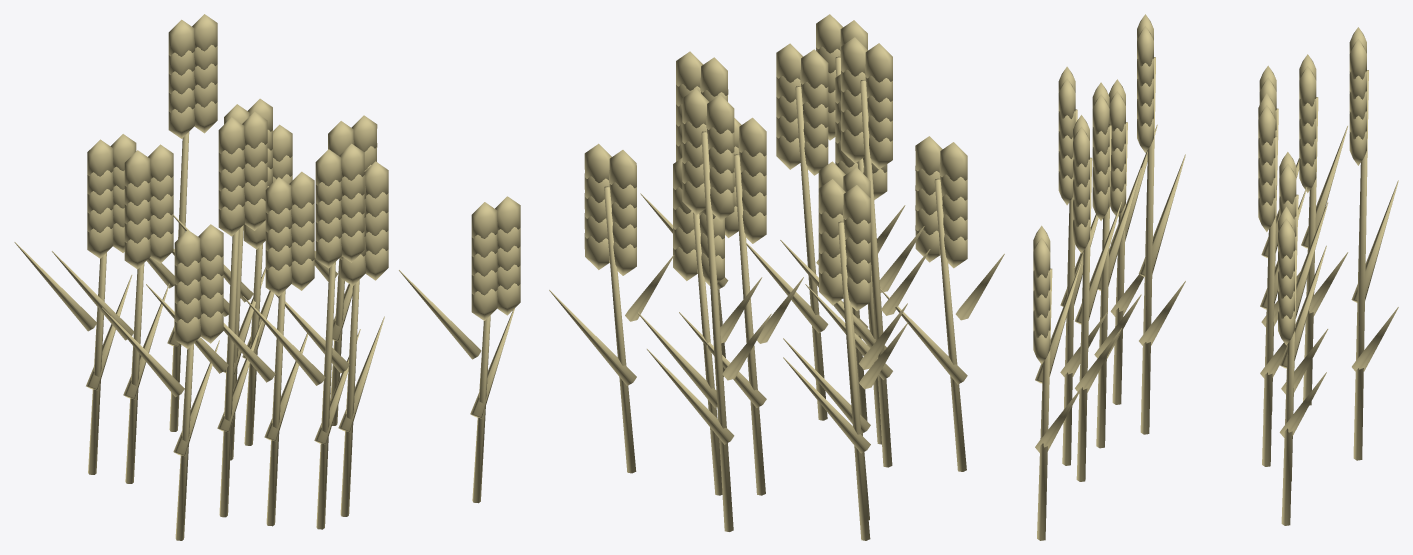
The model's file is SM_WheatPatch.fbx.
3 renders of one model, left to right at view 1: azimuth 30°, elevation 25°; view 2: azimuth 150°, elevation 25°; view 3: azimuth 270°, elevation 25°, orthographic. The views are drawn at different scales.
Parts seen in each view (by area): view 1: SM_WheatPatch; view 2: SM_WheatPatch; view 3: SM_WheatPatch.
Boxes of the visible parts, bbox=[...] form: SM_WheatPatch: bbox=[14, 14, 520, 540]; SM_WheatPatch: bbox=[549, 14, 1004, 540]; SM_WheatPatch: bbox=[1033, 14, 1398, 540].
Size of the model in its own units: 116 by 91.06 by 120.
